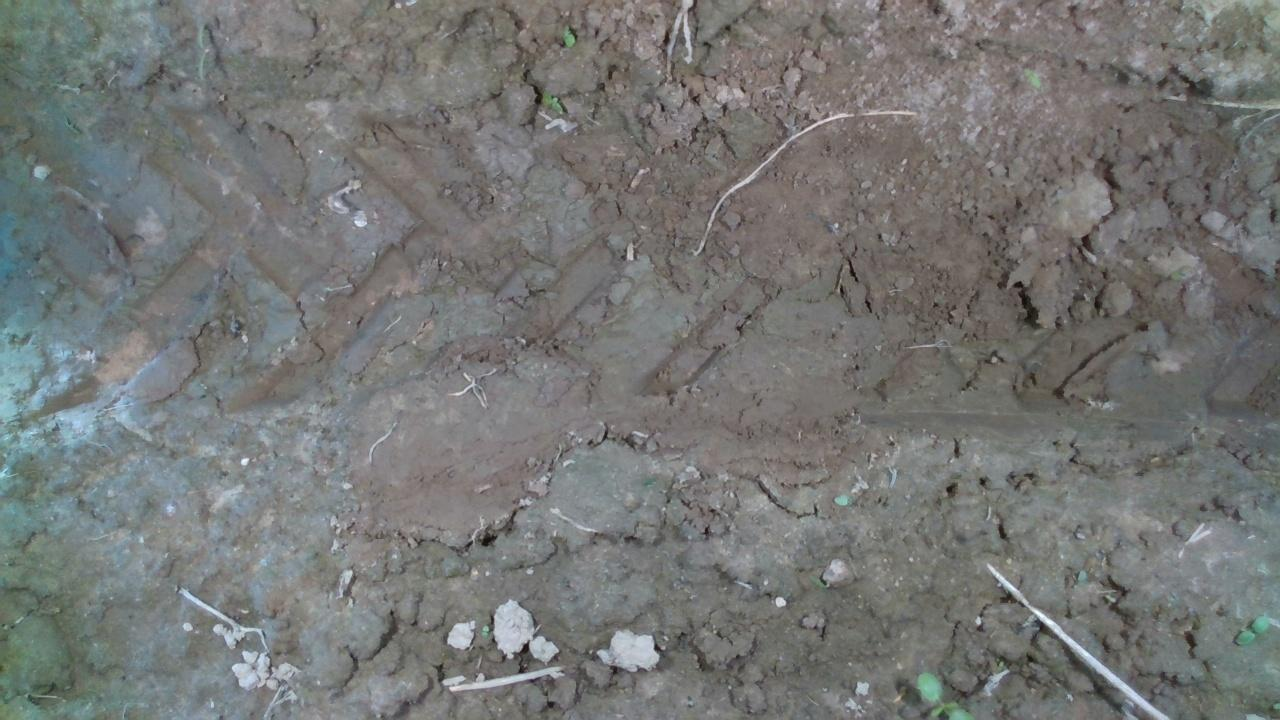weed: (1232, 613, 1269, 646), (559, 22, 577, 47)
